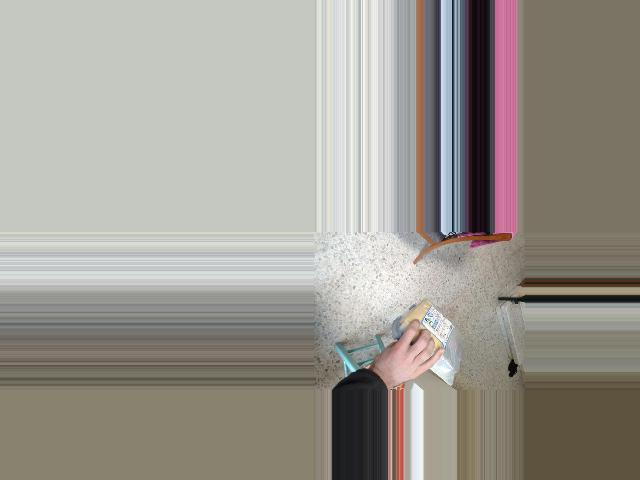cheese: (397, 301, 459, 383)
